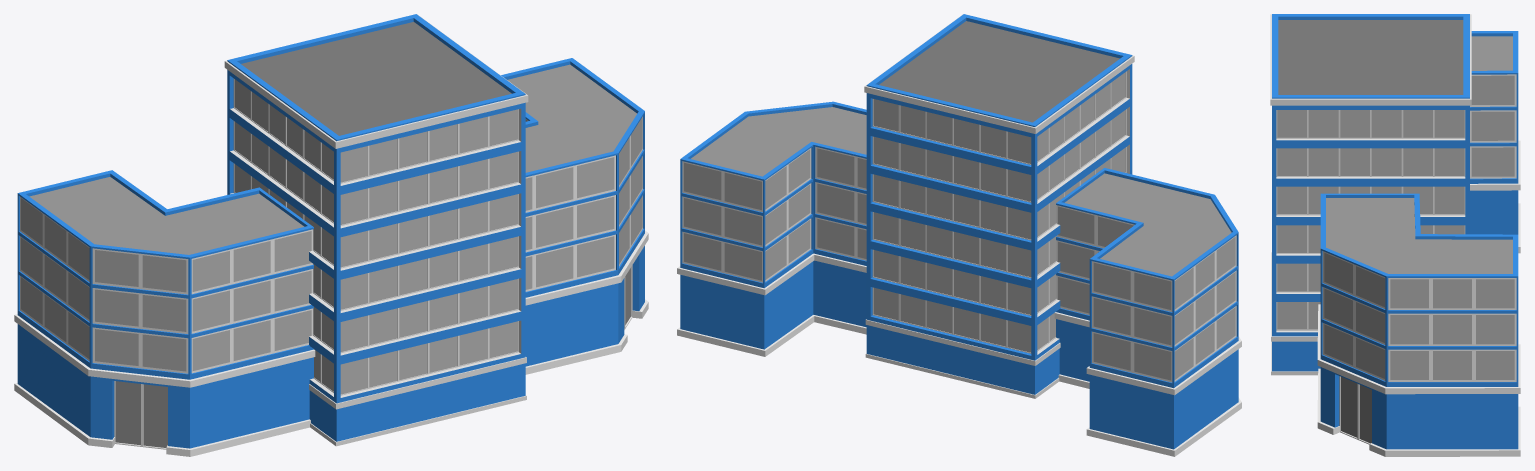
The model's file is SM_House_15_04.FBX.
3 renders of one model, left to right at view 1: azimuth 30°, elevation 25°; view 2: azimuth 150°, elevation 25°; view 3: azimuth 270°, elevation 25°, orthographic. The views are drawn at different scales.
Parts seen in each view (by area): view 1: SM_House_15_04; view 2: SM_House_15_04; view 3: SM_House_15_04.
Part boxes in pixels (left/top/right/bottom): SM_House_15_04: left=14, top=14, right=648, bottom=456; SM_House_15_04: left=677, top=14, right=1241, bottom=456; SM_House_15_04: left=1270, top=14, right=1520, bottom=456.
Size of the model in its own units: 17.78 by 9.28 by 7.6.
2 materials, 2 textured.
